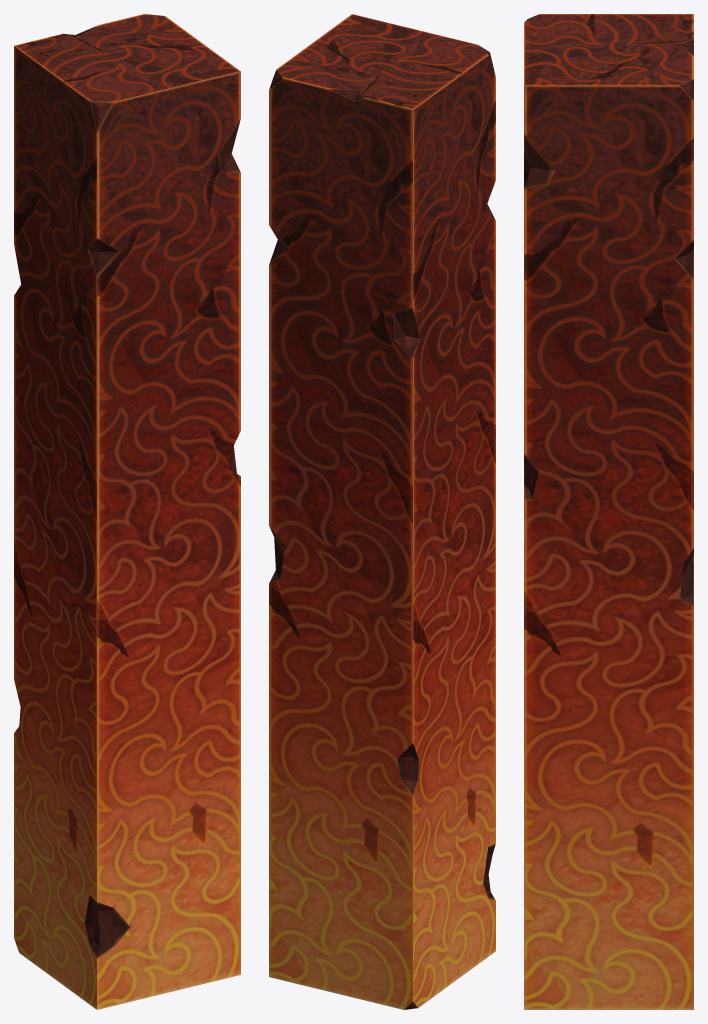
The model's file is SkillObj_Monster_Effigy_Fire_Pillar_Model.fbx.
3 views of the same model, side by side, from view 1: azimuth 30°, elevation 25°; view 2: azimuth 150°, elevation 25°; view 3: azimuth 270°, elevation 25° (orthographic). The views are drawn at different scales.
Parts seen in each view (by area): view 1: SkillObj_Monster_Effigy_Fire_Pillar_Model; view 2: SkillObj_Monster_Effigy_Fire_Pillar_Model; view 3: SkillObj_Monster_Effigy_Fire_Pillar_Model.
Part boxes in pixels (bbox=[...]): SkillObj_Monster_Effigy_Fire_Pillar_Model: bbox=[14, 14, 240, 1009]; SkillObj_Monster_Effigy_Fire_Pillar_Model: bbox=[269, 14, 495, 1009]; SkillObj_Monster_Effigy_Fire_Pillar_Model: bbox=[524, 14, 693, 1009].
Bounding box in the file's own units: 75 × 450 × 75.
Materials: 1 (1 with a texture image).
